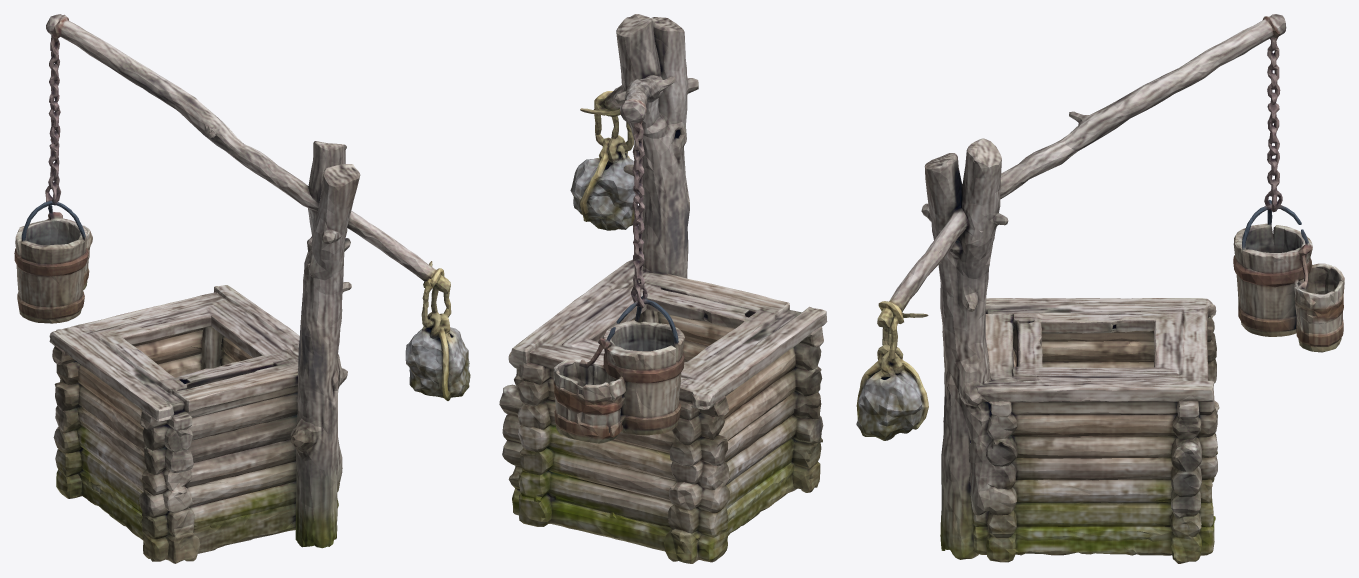
Rendered from k_well.obj.
3 views of the same model, side by side, from view 1: azimuth 30°, elevation 25°; view 2: azimuth 150°, elevation 25°; view 3: azimuth 270°, elevation 25° (orthographic). The views are drawn at different scales.
Parts seen in each view (by area): view 1: k_well; view 2: k_well; view 3: k_well.
Part boxes in pixels (box(x1,y1,x2,y2)): k_well: box(14, 14, 470, 563); k_well: box(499, 14, 827, 563); k_well: box(856, 14, 1344, 563).
Size of the model in its own units: 3.45 by 5.39 by 5.
Materials: 1 (1 with a texture image).
